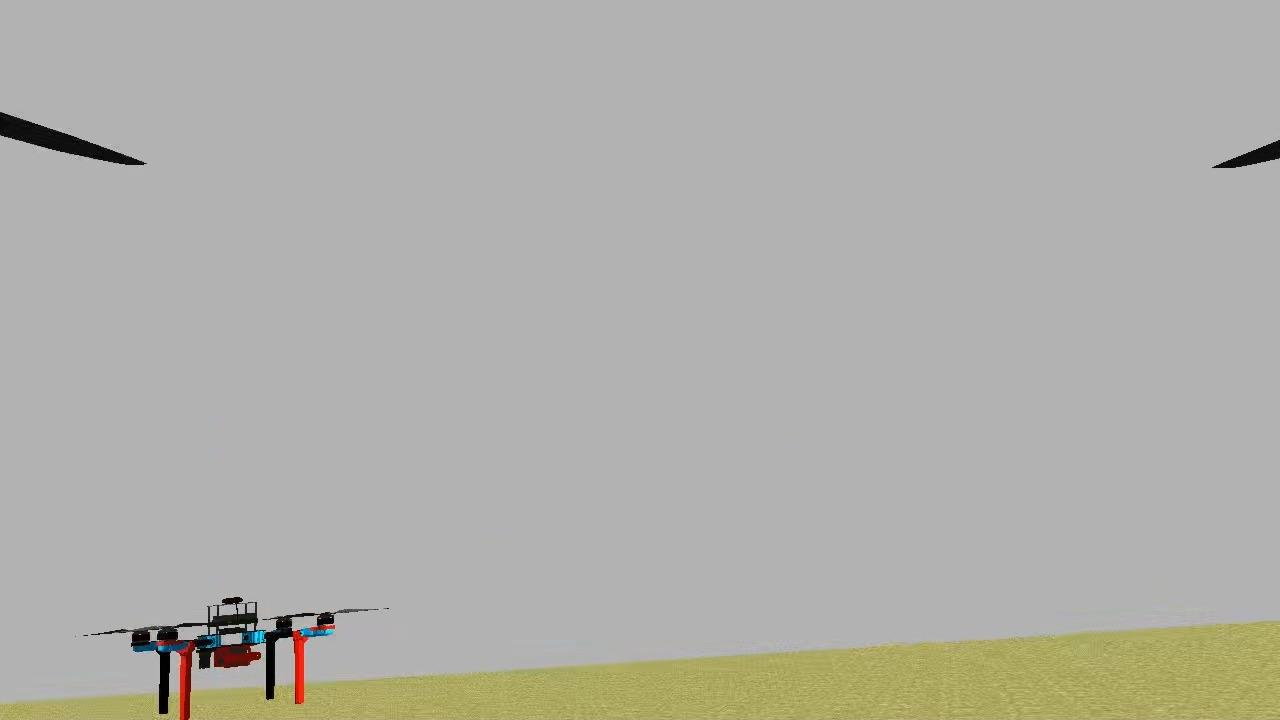UAV: (124, 590, 344, 718)
